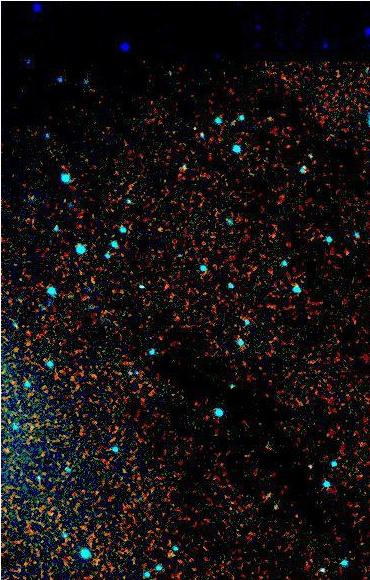star: (144, 215, 174, 245)
